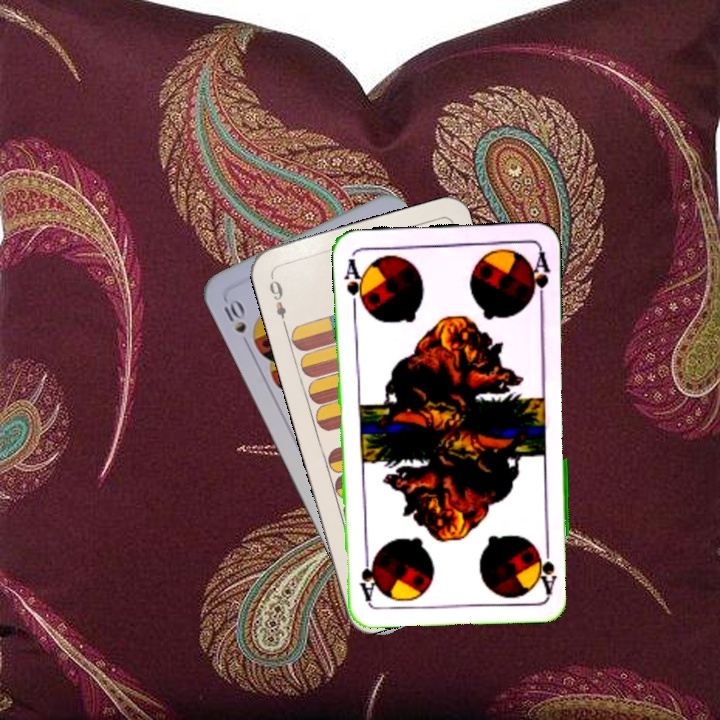E9: (265, 272, 289, 330)
S10: (219, 295, 249, 336)
SA: (340, 254, 368, 312), (535, 537, 559, 596)
